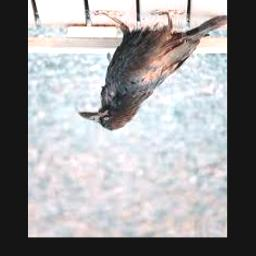Crow: (78, 10, 227, 131)
